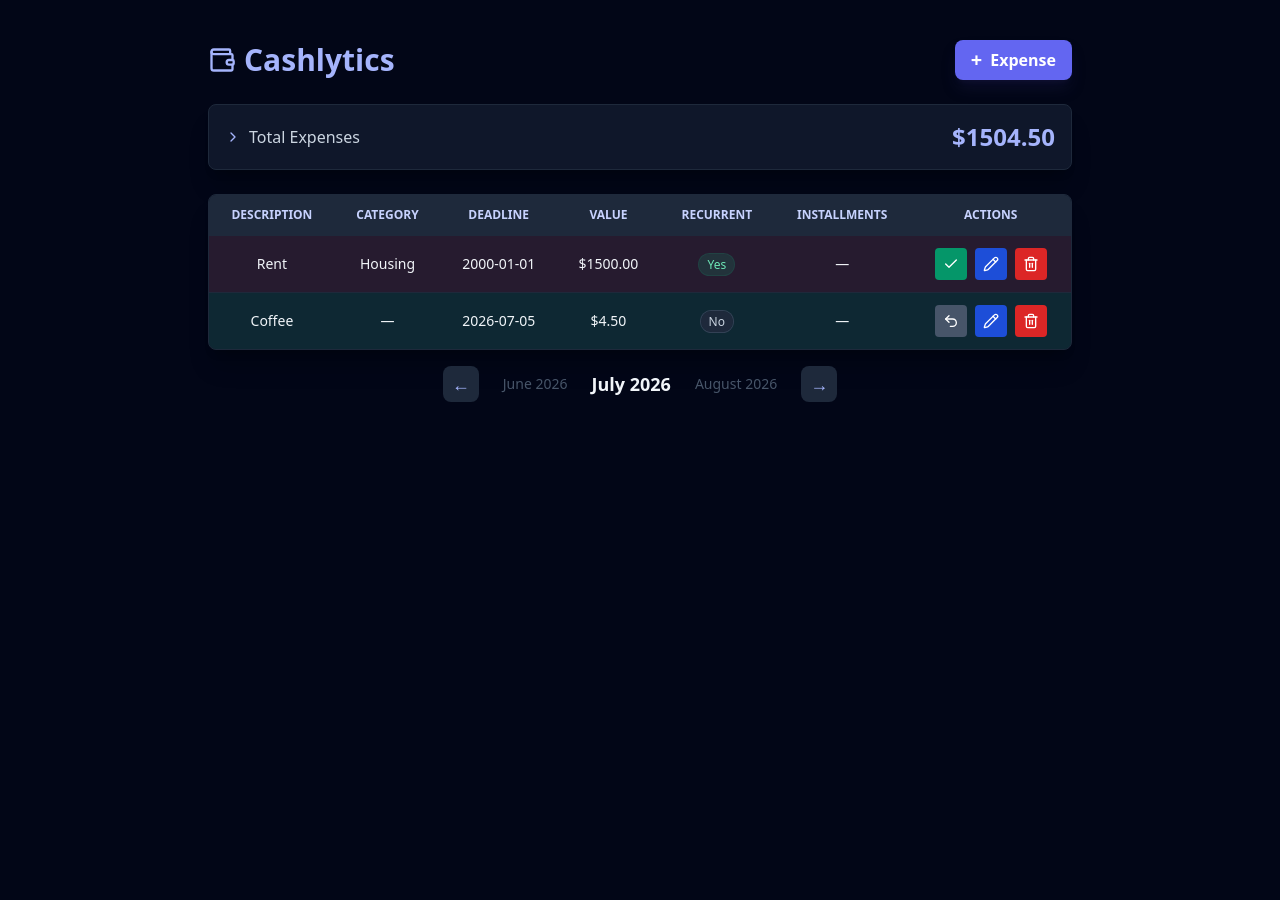
Home › opens the edit modal pre-filled when a row is double-clicked
Step 1. Double-click the text "Rent" → (640, 264), box [209, 236, 1071, 292]
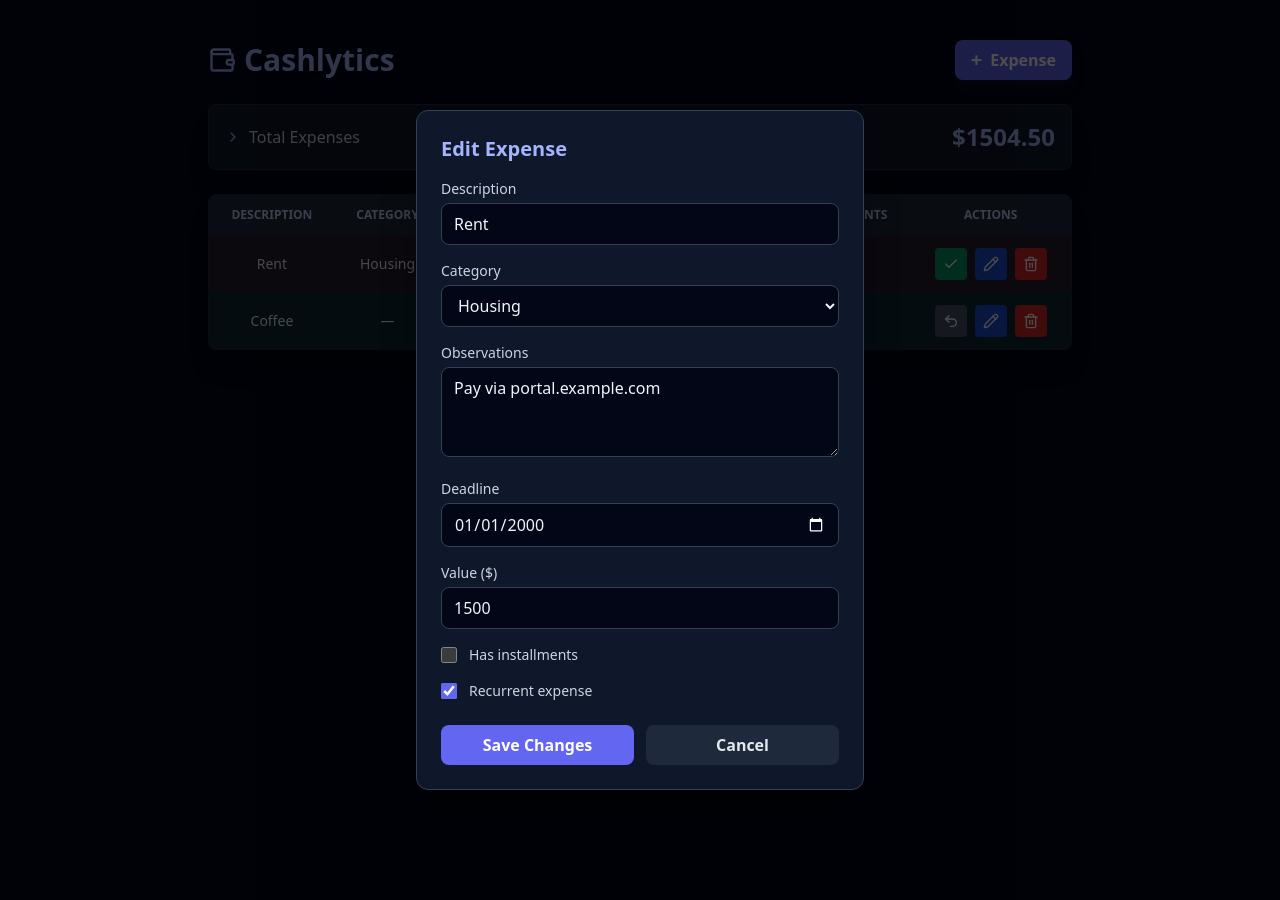
expect the heading "Edit Expense" is shown: met, box [441, 135, 567, 162]
expect the field showing "Rent" is shown: met, box [441, 203, 839, 245]
